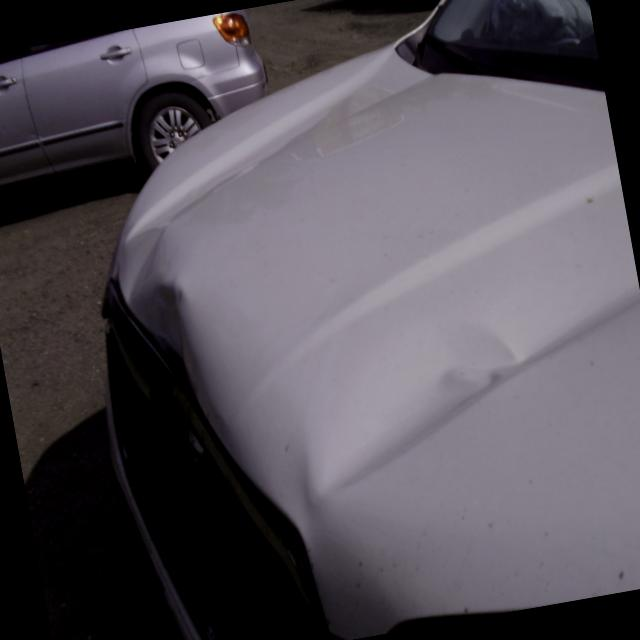Cabossage: (257, 322, 558, 518), (102, 190, 203, 384)
